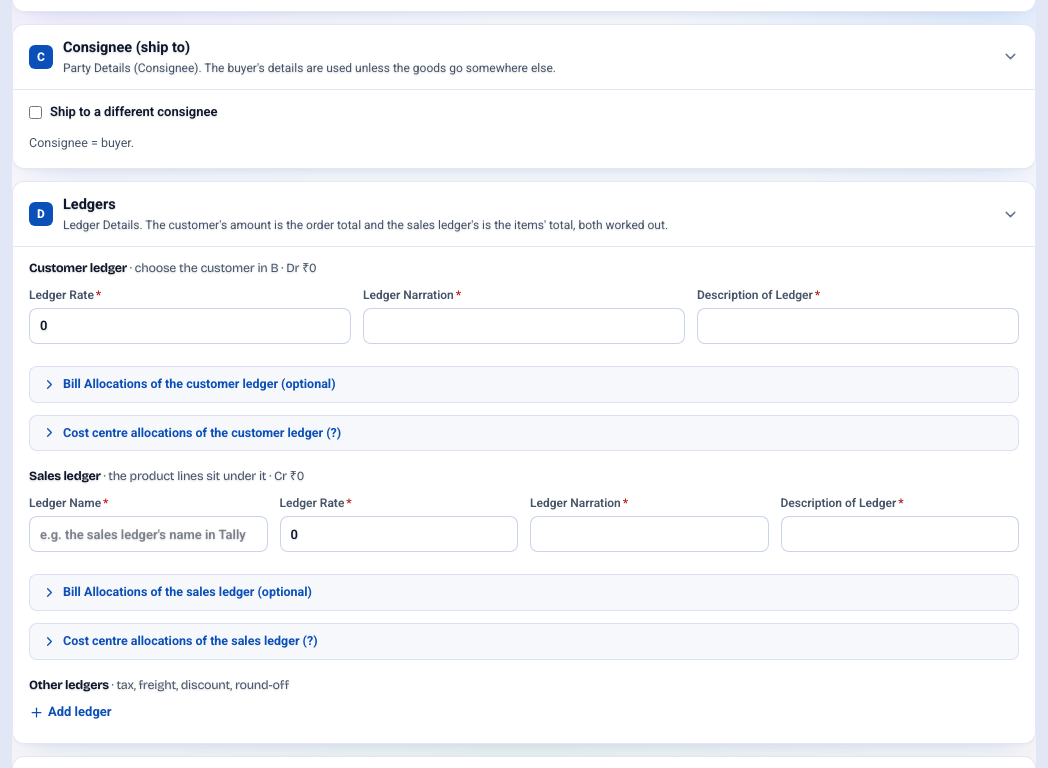
the manual form: rows added and removed by hand become the same rows a file would hold › bill allocations under the customer's ledger and advance lines on the order
Later steps or results of the test are not shown.
(page scrolled)
Click the button "Bill Allocations of the customer ledger (optional)".
click(199, 383)  # box [30,367,1018,402]
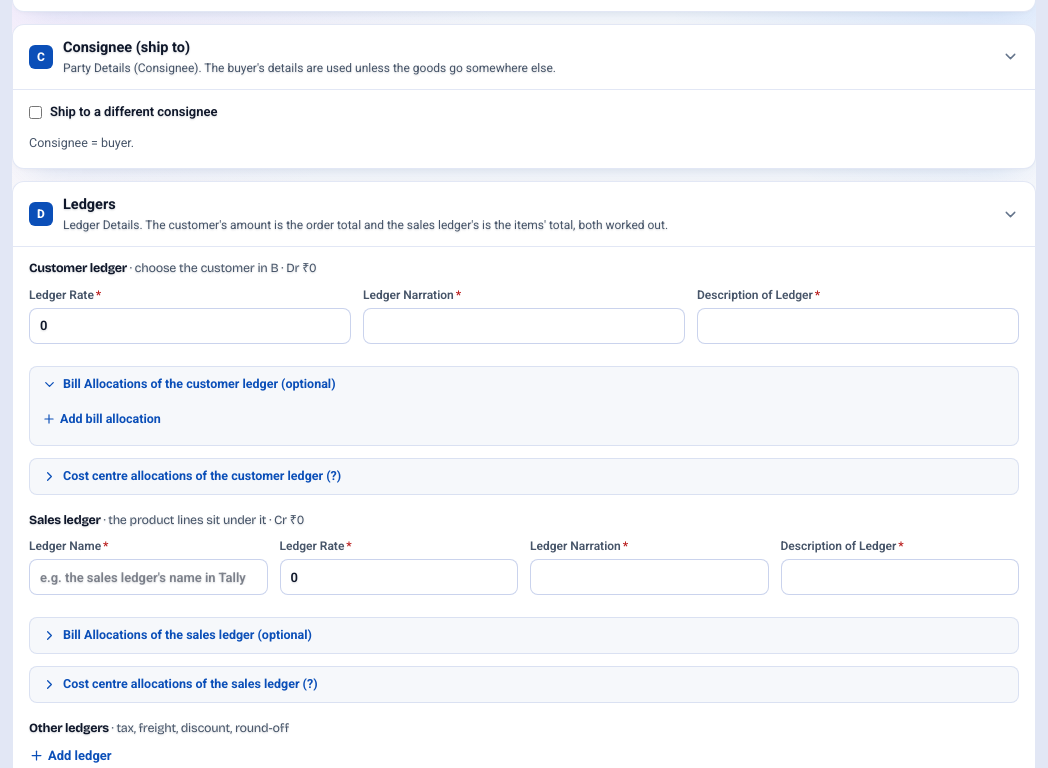
Click the button "Add bill allocation".
click(101, 419)  # box [42,410,161,428]
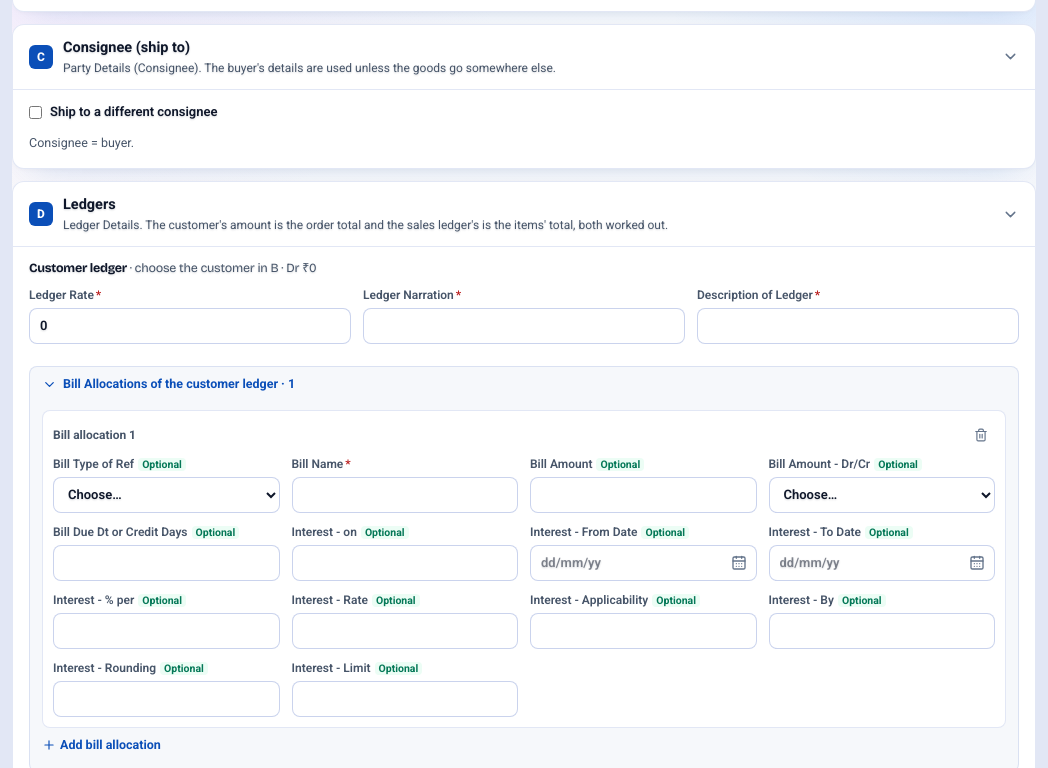
Click the button "Add bill allocation".
click(101, 745)  # box [42,736,161,754]
(page scrolled)
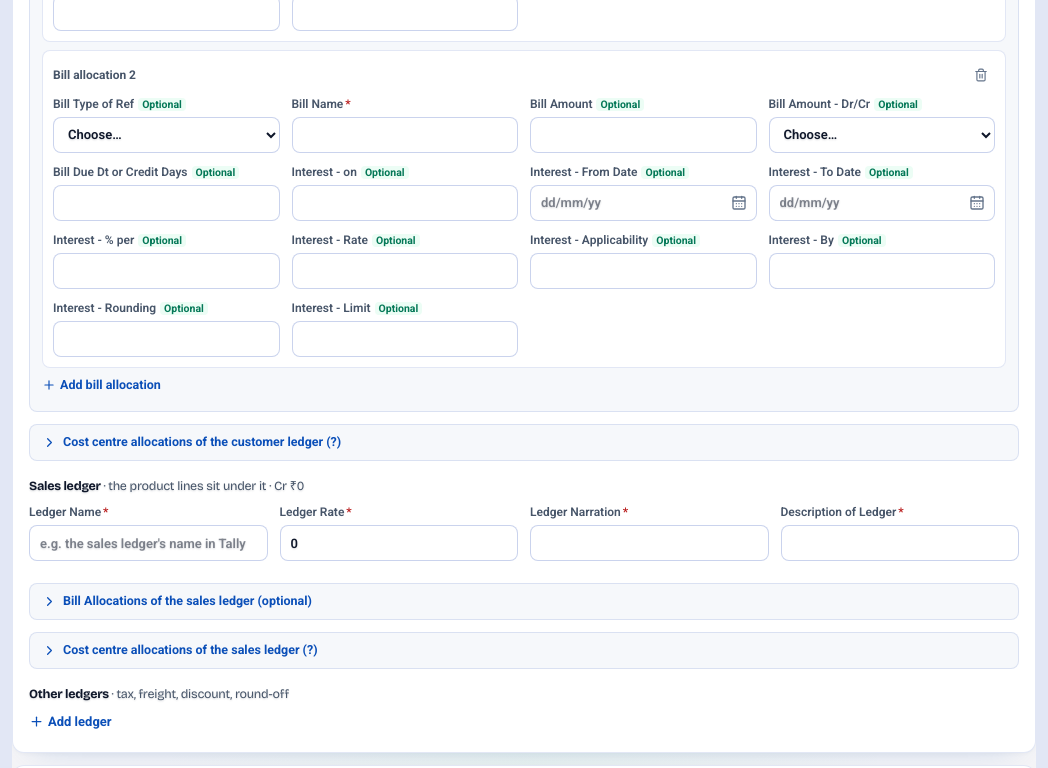
Click the button "Add bill allocation".
click(101, 385)  # box [42,376,161,394]
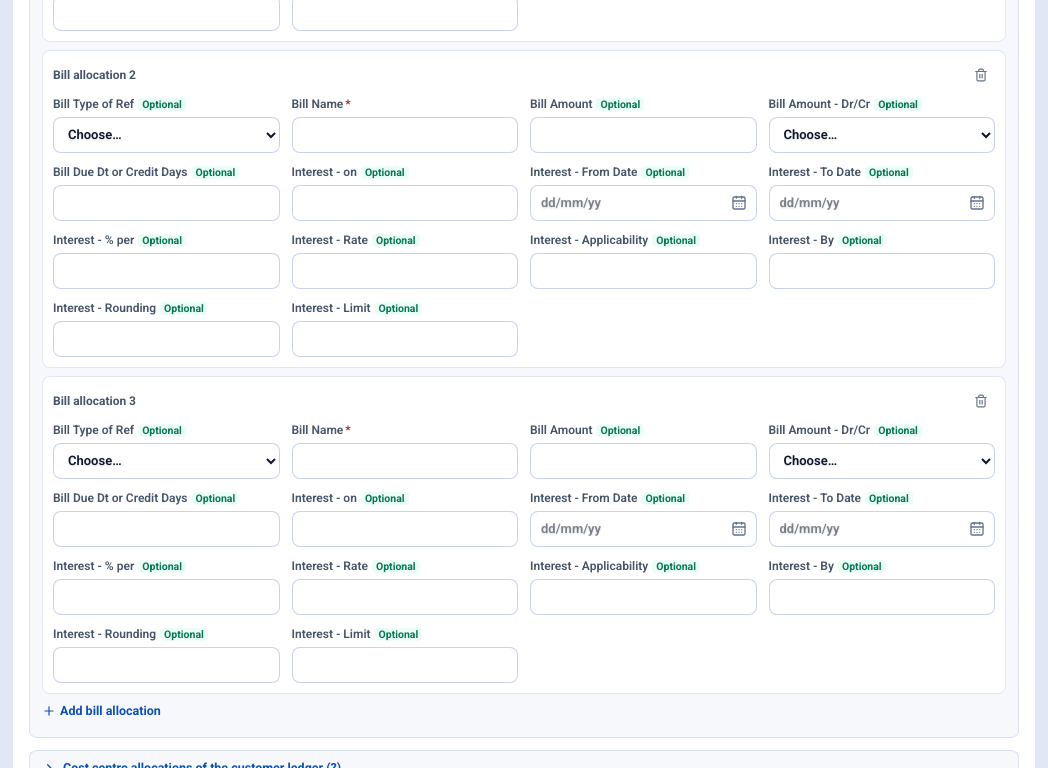
Click the button named "Remove bill allocation 2 of the customer ledger".
click(981, 74)  # box [967,60,995,88]
(page scrolled)
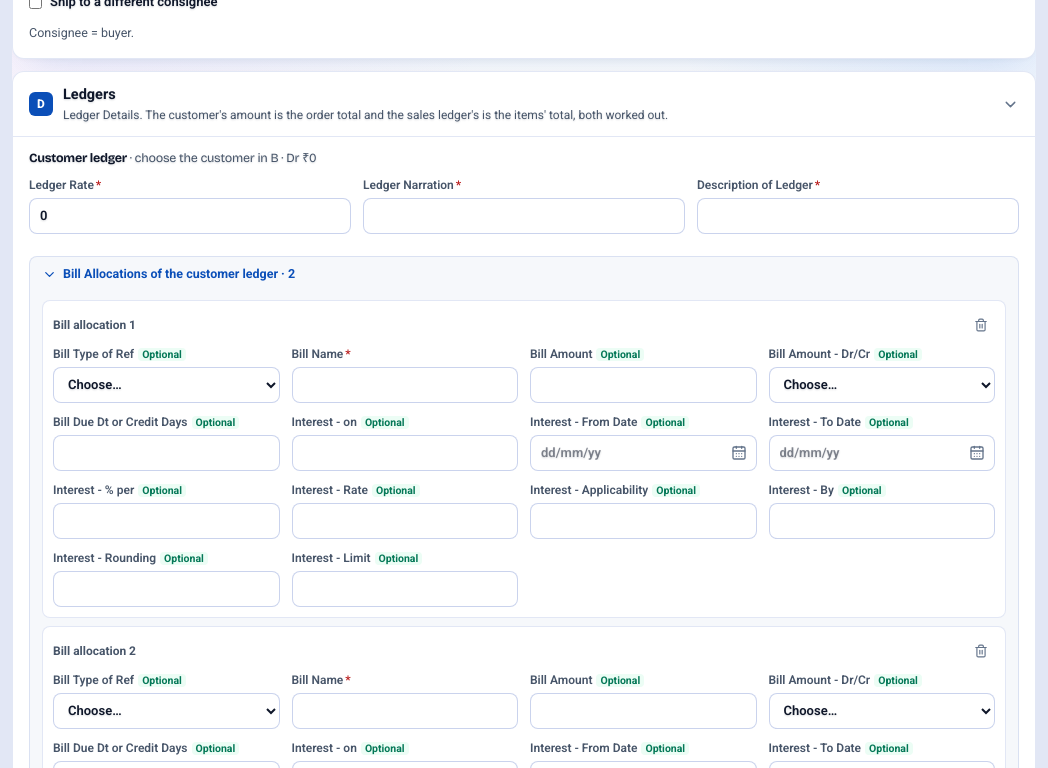
Expected: the label named "Bill Name of the customer ledger bill allocation 1" reads "Bill Name*", [292,344,518,402]
